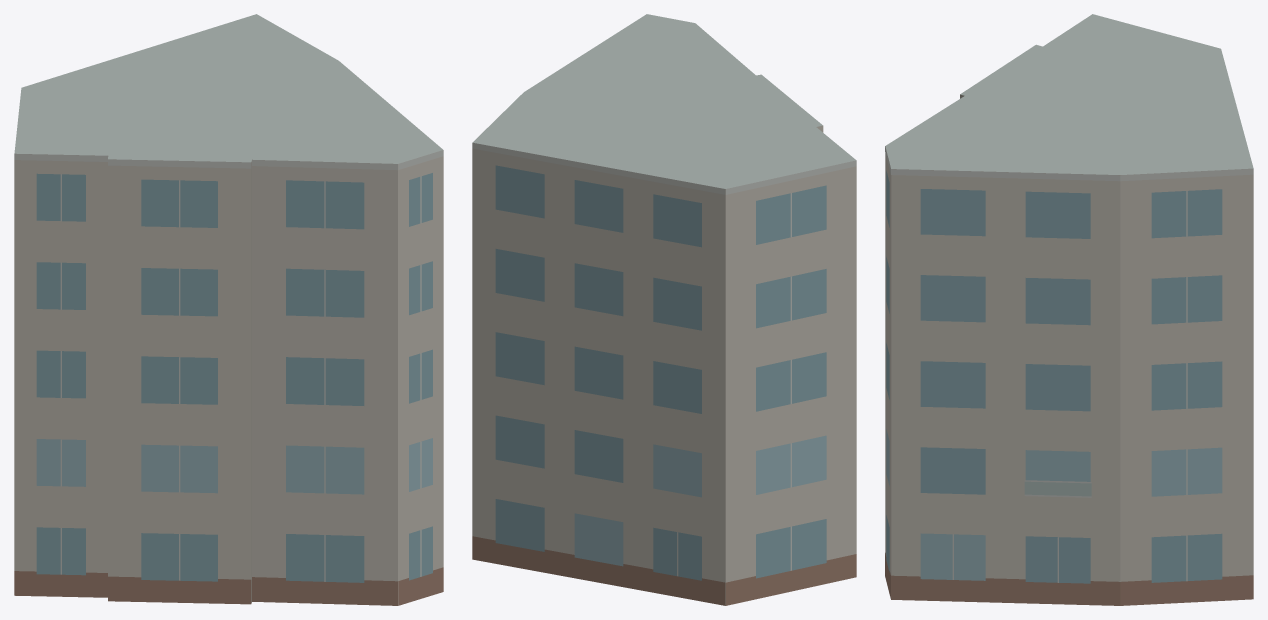
File: survey-upis-32870490.glb
The picture shows the model from 3 angles, left to right: view 1: azimuth 30°, elevation 25°; view 2: azimuth 150°, elevation 25°; view 3: azimuth 270°, elevation 25°; orthographic projection. The views are drawn at different scales.
Parts seen in each view (by area): view 1: survey-upis-32870490.tmp; view 2: survey-upis-32870490.tmp; view 3: survey-upis-32870490.tmp.
Part boxes in pixels (bbox=[...]): survey-upis-32870490.tmp: bbox=[14, 14, 443, 605]; survey-upis-32870490.tmp: bbox=[472, 14, 856, 605]; survey-upis-32870490.tmp: bbox=[885, 14, 1253, 605].
Size of the model in its own units: 13.81 by 17.2 by 13.34.
